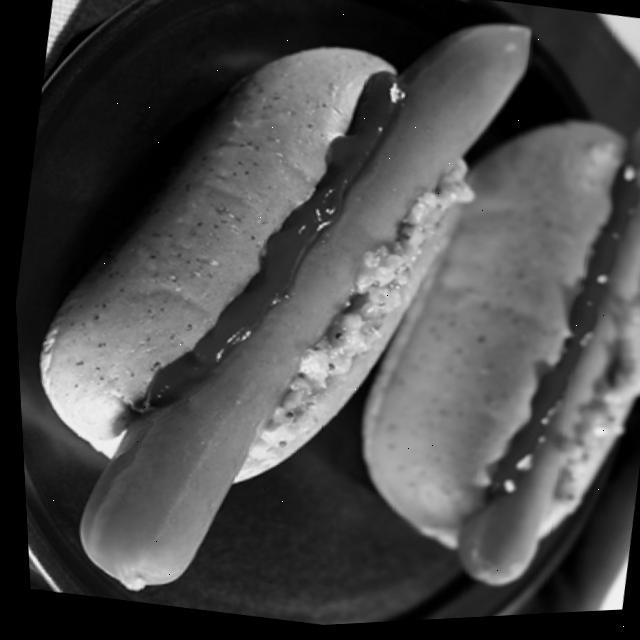汉堡快餐: (396, 109, 640, 609)
